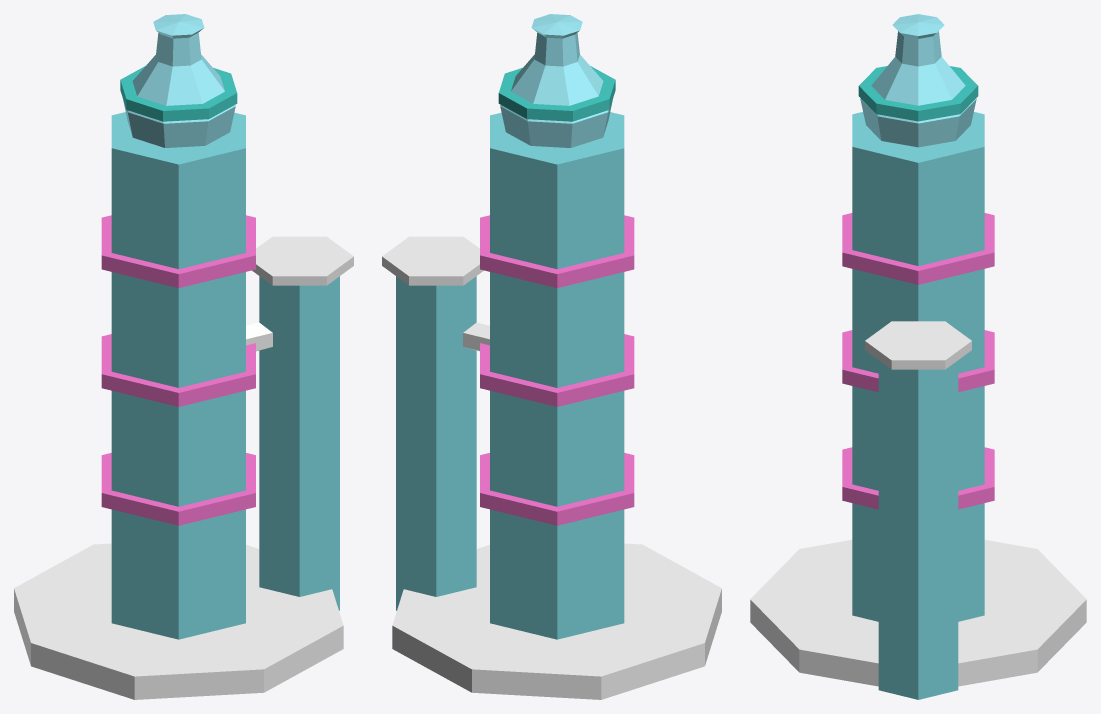
The model's file is lab-g2.glb.
The picture shows the model from 3 angles, left to right: view 1: azimuth 30°, elevation 25°; view 2: azimuth 150°, elevation 25°; view 3: azimuth 270°, elevation 25°; orthographic projection.
Visible parts, largest first — view 1: lab-g2; view 2: lab-g2; view 3: lab-g2.
Boxes of the visible parts, <box> form: lab-g2: <box>14,14,353,699</box>; lab-g2: <box>382,14,721,699</box>; lab-g2: <box>750,14,1086,699</box>.
Bounding box in the file's own units: 1.38 × 2.6 × 1.32.
